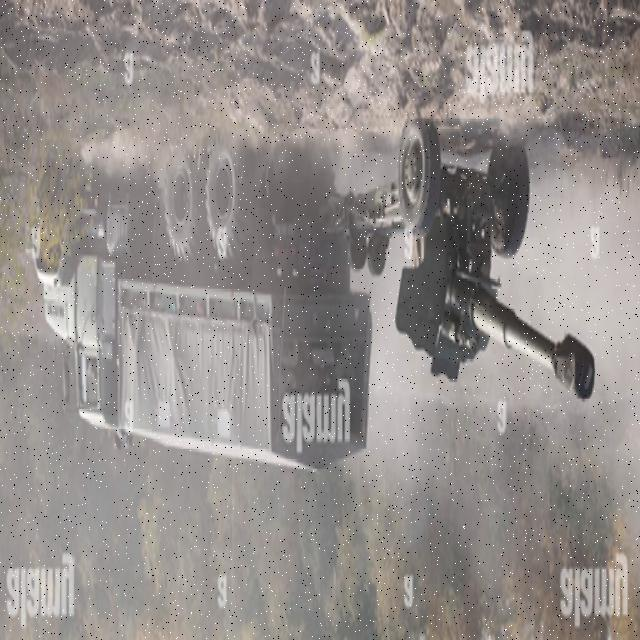ART: (374, 120, 595, 412)
TRUCK: (22, 143, 372, 477)
